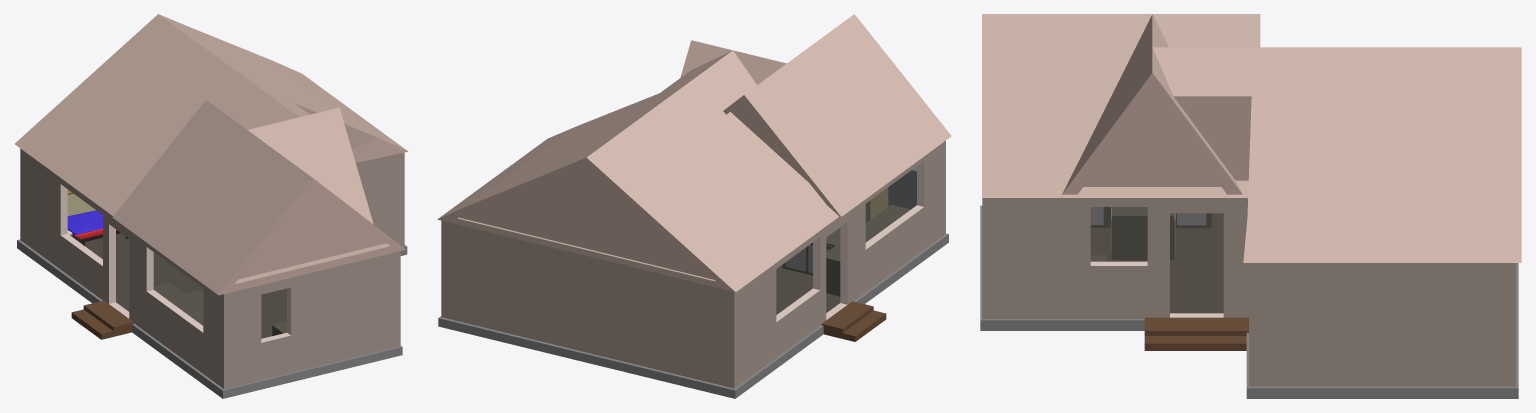
Rendered from HouseExport.fbx.
3 views of the same model, side by side, from view 1: azimuth 30°, elevation 25°; view 2: azimuth 150°, elevation 25°; view 3: azimuth 270°, elevation 25° (orthographic). The views are drawn at different scales.
Visible parts, largest first — view 1: Cube.007, Cube.008, Cube.001, Cube, Floor, Cube.009, Cube.004, Stairs.001, Cube.088, Cube.005, Cube.003, Blanket (+1 smaller); view 2: Cube.007, Cube.002, Cube.008, Cube, Floor, Cube.088, Cube.009, Stairs.001, Cube.001, Frame, Cube.012; view 3: Cube.007, Cube.003, Cube.008, Cube.005, Floor, Cube.009, Cube.014, Stairs, Cube.088, Cube.002, Cube.013.
Part boxes in pixels (x1,y1,x2,y2): Cube.007: [15, 14, 407, 215]; Cube.008: [112, 100, 405, 295]; Cube.001: [220, 253, 393, 388]; Cube: [20, 148, 219, 385]; Floor: [17, 233, 407, 398]; Cube.009: [248, 107, 373, 224]; Cube.004: [356, 154, 397, 242]; Stairs.001: [71, 300, 133, 339]; Cube.088: [153, 283, 203, 325]; Cube.005: [393, 251, 400, 347]; Cube.003: [397, 152, 404, 246]; Blanket: [67, 210, 102, 234]; Cube.007: [437, 50, 838, 292]; Cube.002: [441, 220, 726, 386]; Cube.008: [723, 14, 951, 216]; Cube: [727, 144, 941, 388]; Floor: [438, 219, 948, 398]; Cube.088: [782, 204, 910, 296]; Cube.009: [680, 40, 786, 84]; Stairs.001: [821, 301, 886, 341]; Cube.001: [870, 141, 945, 236]; Frame: [890, 166, 916, 209]; Cube.012: [783, 242, 831, 275]; Cube.007: [1152, 47, 1521, 262]; Cube.003: [1249, 263, 1505, 386]; Cube.008: [982, 14, 1260, 197]; Cube.005: [982, 198, 1248, 318]; Floor: [980, 205, 1518, 398]; Cube.009: [1062, 14, 1242, 194]; Cube.014: [1083, 92, 1220, 186]; Stairs: [1144, 317, 1248, 350]; Cube.088: [1107, 207, 1211, 260]; Cube.002: [1505, 263, 1515, 386]; Cube.013: [1175, 213, 1209, 228].
Bounding box in the file's own units: 1015 × 897 × 538.
